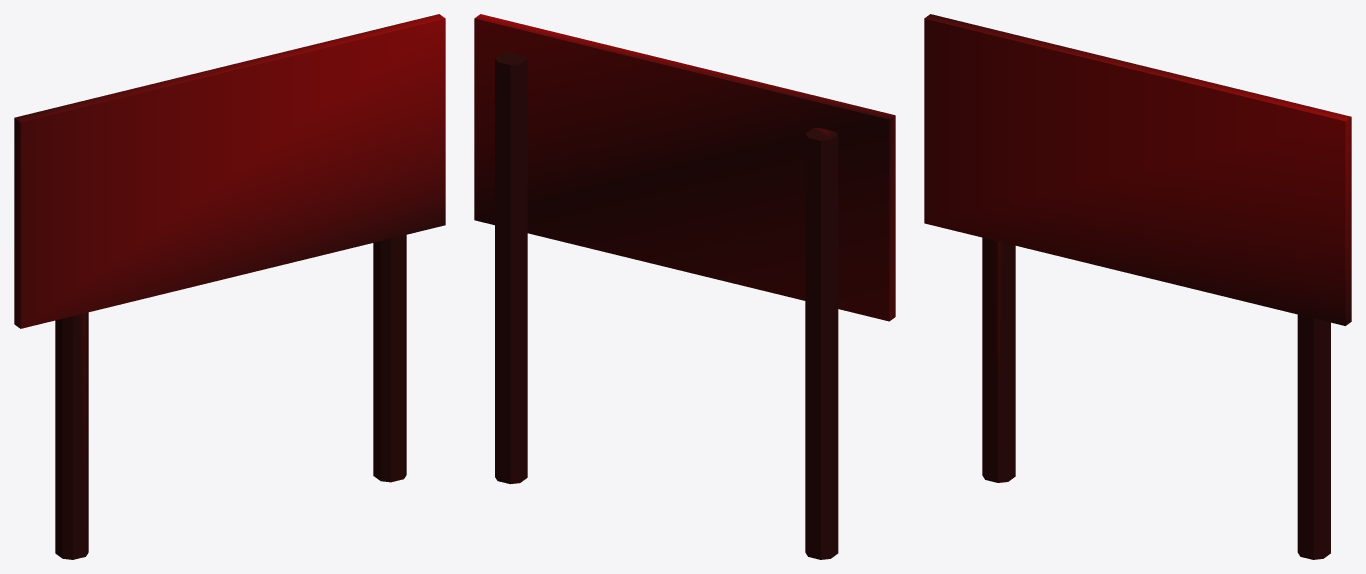
File: Sign03.fbx
3 views of the same model, side by side, from view 1: azimuth 30°, elevation 25°; view 2: azimuth 150°, elevation 25°; view 3: azimuth 330°, elevation 25° (orthographic). The views are drawn at different scales.
Parts seen in each view (by area): view 1: Model_SignBoard; view 2: Model_SignBoard; view 3: Model_SignBoard.
Part boxes in pixels (x1,y1,x2,y2): Model_SignBoard: [14, 14, 445, 559]; Model_SignBoard: [474, 14, 895, 559]; Model_SignBoard: [924, 14, 1351, 559].
Size of the model in its own units: 142 by 145 by 11.34.
